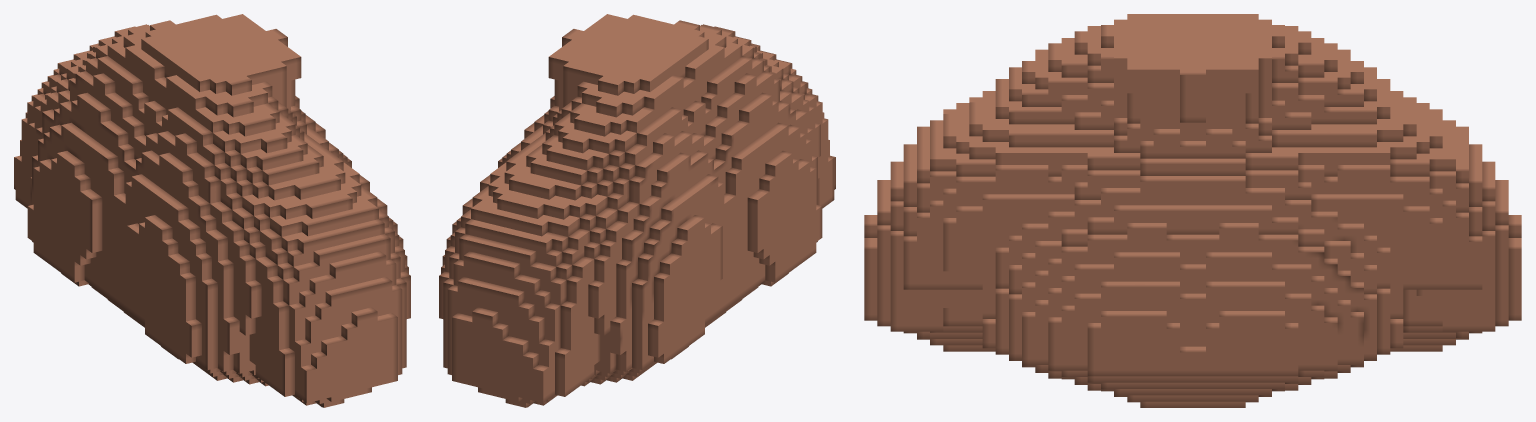
The model's file is Male_Body1.obj.
The picture shows the model from 3 angles, left to right: view 1: azimuth 30°, elevation 25°; view 2: azimuth 150°, elevation 25°; view 3: azimuth 270°, elevation 25°; orthographic projection. The views are drawn at different scales.
Parts seen in each view (by area): view 1: Male_Body1; view 2: Male_Body1; view 3: Male_Body1.
Boxes of the visible parts, bbox=[...] form: Male_Body1: bbox=[14, 14, 410, 407]; Male_Body1: bbox=[439, 14, 835, 407]; Male_Body1: bbox=[864, 14, 1521, 407].
Bounding box in the file's own units: 24 × 27 × 50.
